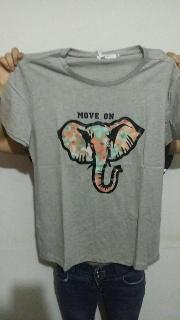short sleeve top: (0, 45, 180, 272)
trousers: (56, 256, 146, 320)
